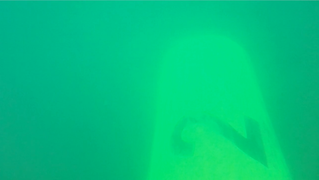2: (169, 114, 269, 169)
pipe: (147, 35, 293, 179)
